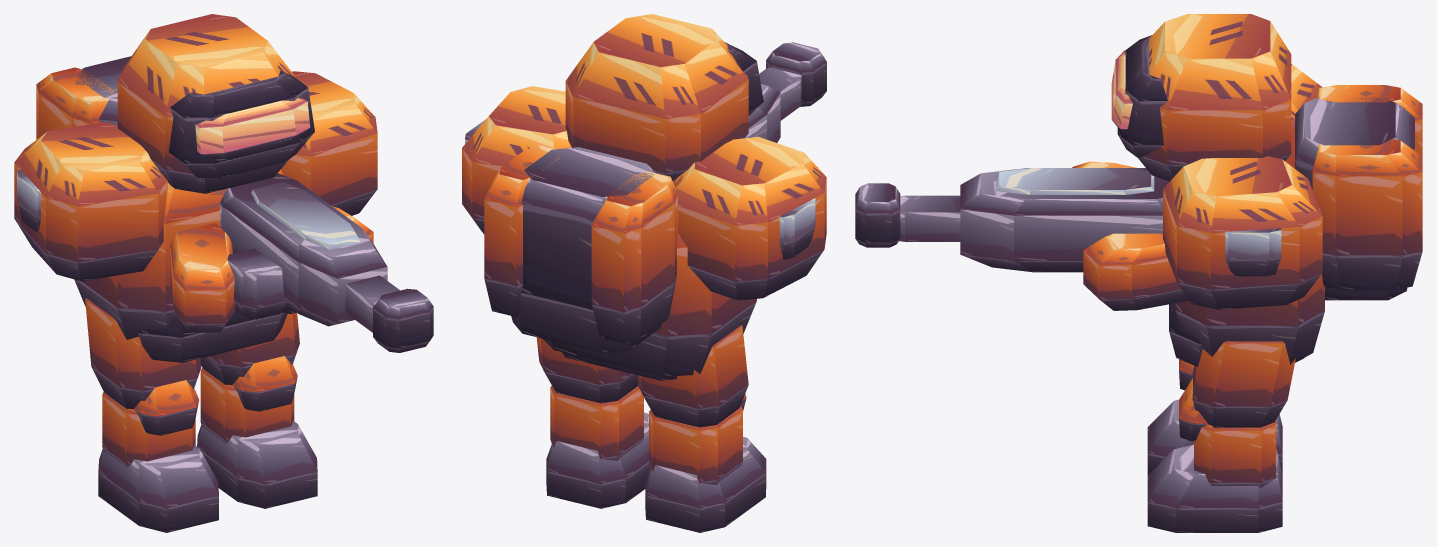
File: marine-arcade-pop.glb
3 renders of one model, left to right at view 1: azimuth 30°, elevation 25°; view 2: azimuth 150°, elevation 25°; view 3: azimuth 270°, elevation 25°, orthographic.
Visible parts, largest first — view 1: MarineArmor, MarineRifle, MarineLeg0, MarineLeg1; view 2: MarineArmor, MarineLeg0, MarineLeg1, MarineRifle; view 3: MarineArmor, MarineRifle, MarineLeg1, MarineLeg0.
Boxes of the visible parts, box(x1,y1,x2,y2) form: MarineArmor: box(14, 14, 377, 362); MarineRifle: box(170, 173, 433, 352); MarineLeg0: box(85, 298, 218, 532); MarineLeg1: box(197, 312, 317, 508); MarineArmor: box(462, 14, 826, 380); MarineLeg0: box(637, 325, 766, 532); MarineLeg1: box(536, 337, 650, 508); MarineRifle: box(745, 42, 826, 142); MarineArmor: box(1111, 14, 1422, 366); MarineRifle: box(855, 161, 1188, 310); MarineLeg1: box(1147, 341, 1295, 532); MarineLeg0: box(1147, 359, 1282, 475).
Bounding box in the file's own units: 1.54 × 2 × 2.27.
Materials: 1 (1 with a texture image).
